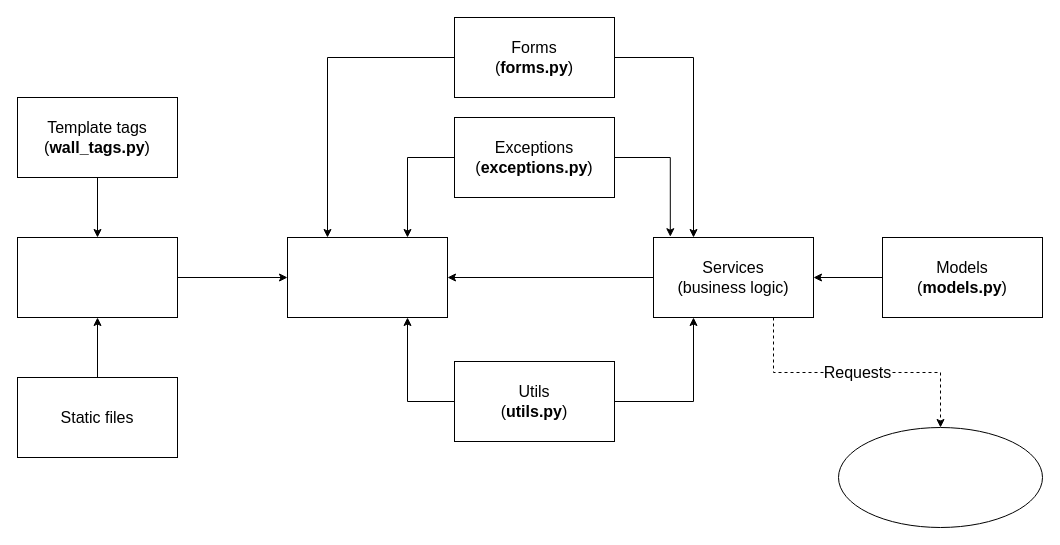
Some shapes in this 1060 by 545 pixel diagram are drawn without their labels. The box of each missing label's shape, as (x1, y1, x2, y2) in pixels:
Database: (838, 426, 1042, 528)
Templates: (16, 236, 178, 318)
Views ( views.py ): (286, 236, 448, 318)
